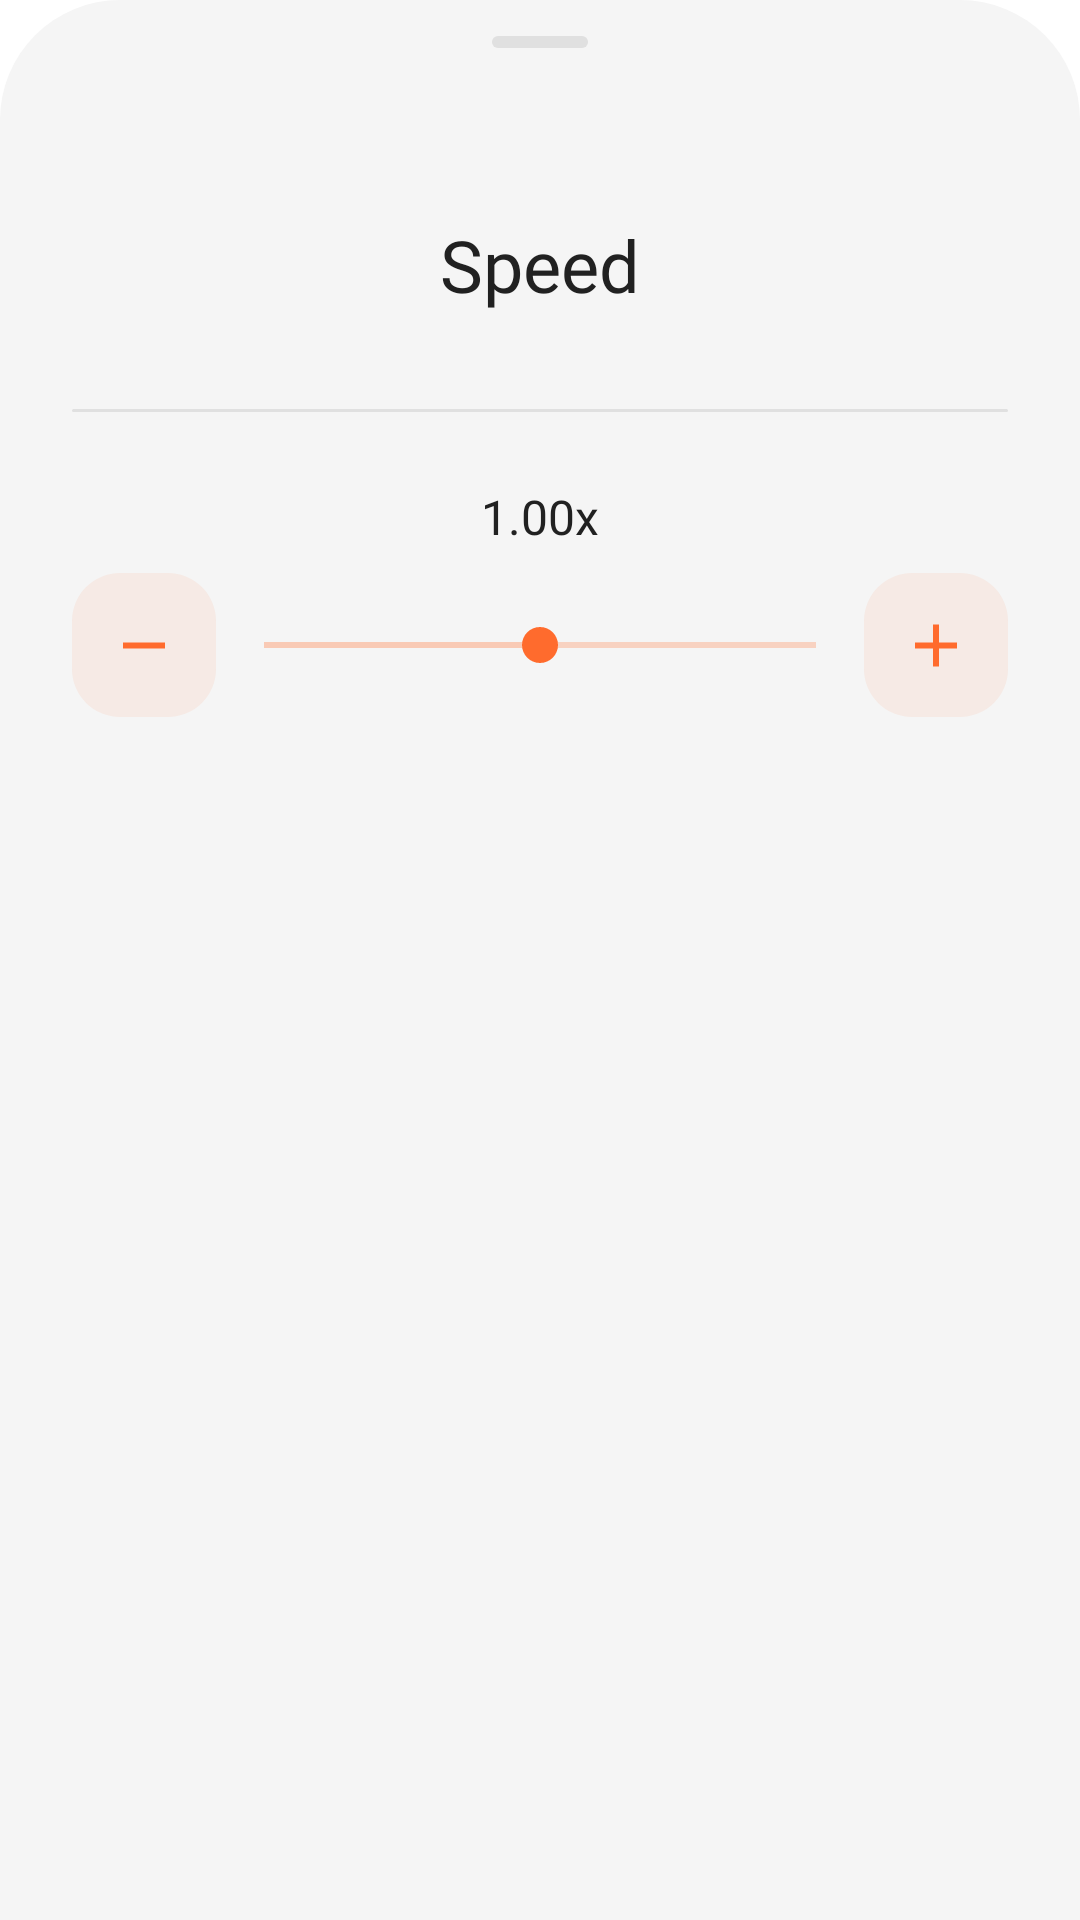

Screen size 1080 × 1920. Icon name, then its box in pixels as [x1,y1,x2,y2]:
Minus: [123,642,165,649]
Plus: [864,573,1008,717]
